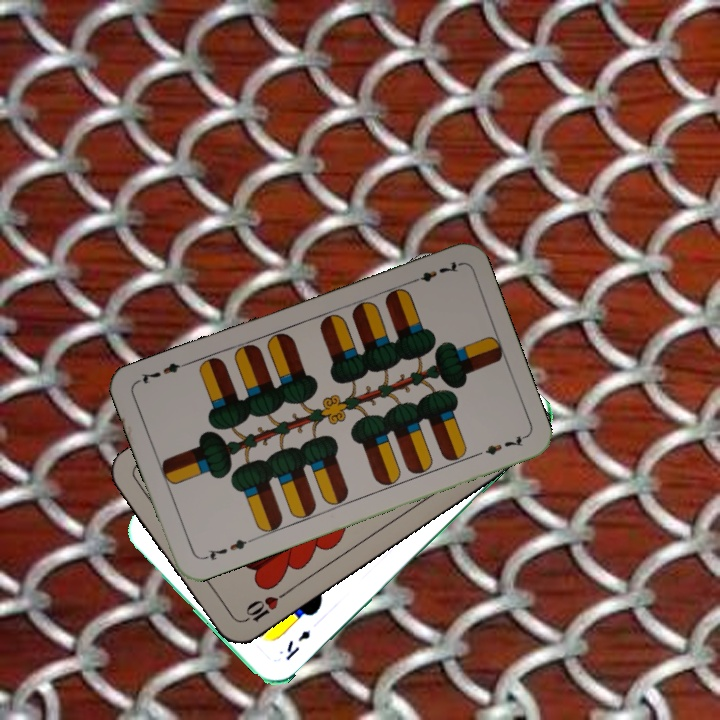E7: (405, 257, 462, 287), (198, 535, 255, 563)
EK: (281, 626, 313, 663)
H10: (236, 587, 289, 626)
